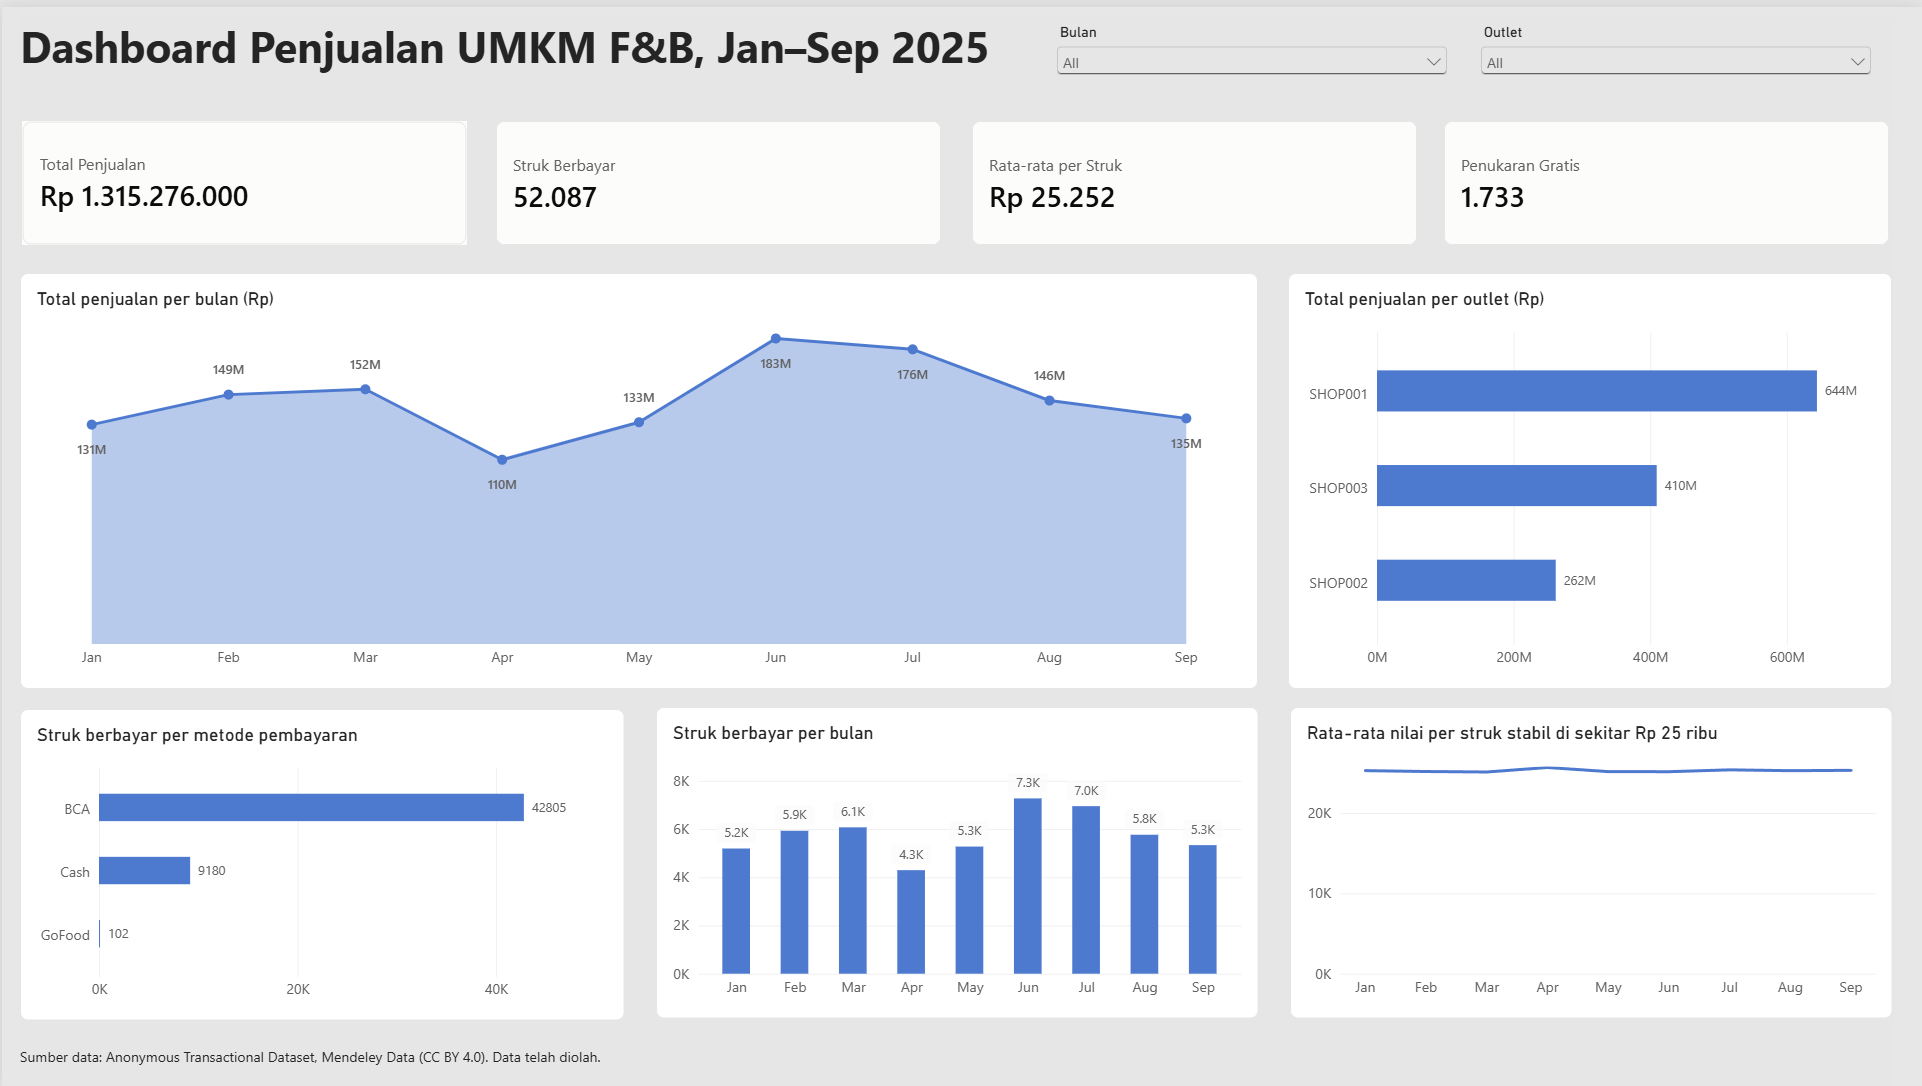

What the dashboard file says about the page in this screenshot:
{"tool":"powerbi","page":{"name":"Ringkasan bisnis","canvas":[1920,1080],"ordinal":0},"visuals":[{"type":"group","id":"g1","title":"Group 1","box":[18.9,9.6,1872.4,1070.9],"z":0},{"type":"textbox","box":[19.1,9.6,1147.5,83.2],"z":0,"group":"g1"},{"type":"slicer","fields":{"Values":["transactions_clean.Bulan"]},"box":[1050,16.5,400,69.3],"z":1000,"group":"g1"},{"type":"lineClusteredColumnComboChart","title":"\tStruk berbayar per bulan","fields":{"Category":["transactions_clean.Bulan"],"Y":["line_items.Struk Berbayar"]},"box":[654,699.9,602.4,311.7],"z":1000},{"type":"slicer","fields":{"Values":["transactions_clean.Outlet"]},"box":[1475,16.5,400,69.3],"z":2000,"group":"g1"},{"type":"lineChart","title":"Rata-rata nilai per struk stabil di sekitar Rp 25 ribu","fields":{"Category":["transactions_clean.Bulan"],"Y":["line_items.Rata-rata per Struk Formula"]},"box":[1287,699.9,602.4,311.7],"z":2000},{"type":"cardVisual","fields":{"Data":["line_items.Total Penjualan (teks)"]},"box":[20,113.6,445.4,124.8],"z":3000,"group":"g1"},{"type":"cardVisual","fields":{"Data":["line_items.Struk Berbayar (teks)"]},"box":[494.7,113.6,445.4,124.8],"z":4000,"group":"g1"},{"type":"cardVisual","fields":{"Data":["line_items.Rata-rata per Struk (teks)"]},"box":[970.3,113.6,445.4,124.8],"z":5000,"group":"g1"},{"type":"cardVisual","title":"p","fields":{"Data":["line_items.Penukaran Gratis (teks)"]},"box":[1443,113.6,445.4,124.8],"z":6000,"group":"g1"},{"type":"lineChart","title":"\tTotal penjualan per bulan (Rp)","fields":{"Category":["transactions_clean.Bulan"],"Y":["line_items.Total Penjualan"]},"box":[19.1,266.1,1238.1,415.9],"z":7000,"group":"g1"},{"type":"clusteredBarChart","title":"\tTotal penjualan per outlet (Rp)","fields":{"Category":["transactions_clean.Outlet"],"Y":["line_items.Total Penjualan"]},"box":[1287.4,266.1,603.9,415.9],"z":8000,"group":"g1"},{"type":"clusteredBarChart","title":"Struk berbayar per metode pembayaran","fields":{"Category":["transactions_clean.PaymentMethod"],"Y":["line_items.Struk Berbayar"]},"box":[18.9,700.8,604.3,311.7],"z":9000,"group":"g1"},{"type":"textbox","box":[653.3,709.7,1238.1,214.9],"z":10000,"group":"g1"},{"type":"textbox","box":[19.1,1038.9,1872.2,41.6],"z":11000,"group":"g1"}]}

Visuals, with their boxes in screenshot pixels (x1, y1, x2, y2), scaled from the page's 1920x1080 canvas onto the 1922x1086 screenshot:
"Group 1" group: region(19, 10, 1893, 1085)
textbox: region(19, 10, 1168, 93)
slicer - transactions_clean.Bulan: region(1051, 17, 1452, 86)
"	Struk berbayar per bulan" lineClusteredColumnComboChart: region(655, 704, 1258, 1017)
slicer - transactions_clean.Outlet: region(1477, 17, 1877, 86)
"Rata-rata nilai per struk stabil di sekitar Rp 25 ribu" lineChart: region(1288, 704, 1891, 1017)
cardVisual - line_items.Total Penjualan (teks): region(20, 114, 466, 240)
cardVisual - line_items.Struk Berbayar (teks): region(495, 114, 941, 240)
cardVisual - line_items.Rata-rata per Struk (teks): region(971, 114, 1417, 240)
"p" cardVisual: region(1445, 114, 1890, 240)
"	Total penjualan per bulan (Rp)" lineChart: region(19, 268, 1259, 686)
"	Total penjualan per outlet (Rp)" clusteredBarChart: region(1289, 268, 1893, 686)
"Struk berbayar per metode pembayaran" clusteredBarChart: region(19, 705, 624, 1018)
textbox: region(654, 714, 1893, 930)
textbox: region(19, 1045, 1893, 1085)
